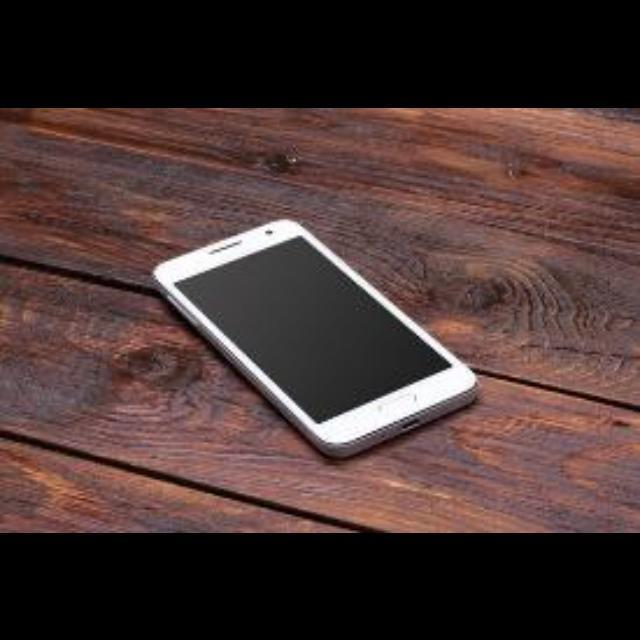phone: (136, 196, 515, 472)
